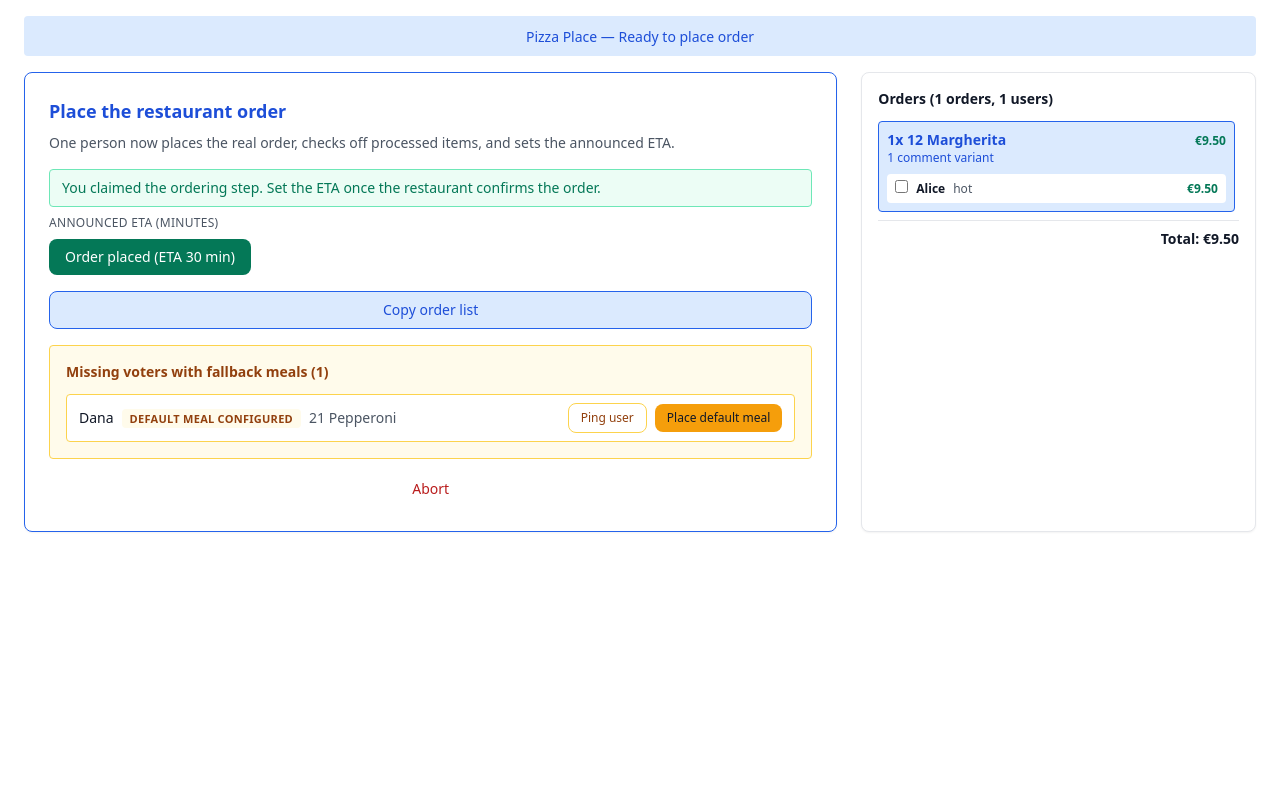
Test case: FoodSelectionOrderingView › shows validation error for invalid custom ETA and does not submit
Step 1. Click the button with aria-label "place order eta menu" → (150, 257), box x1=49 y1=239 x2=251 y2=275
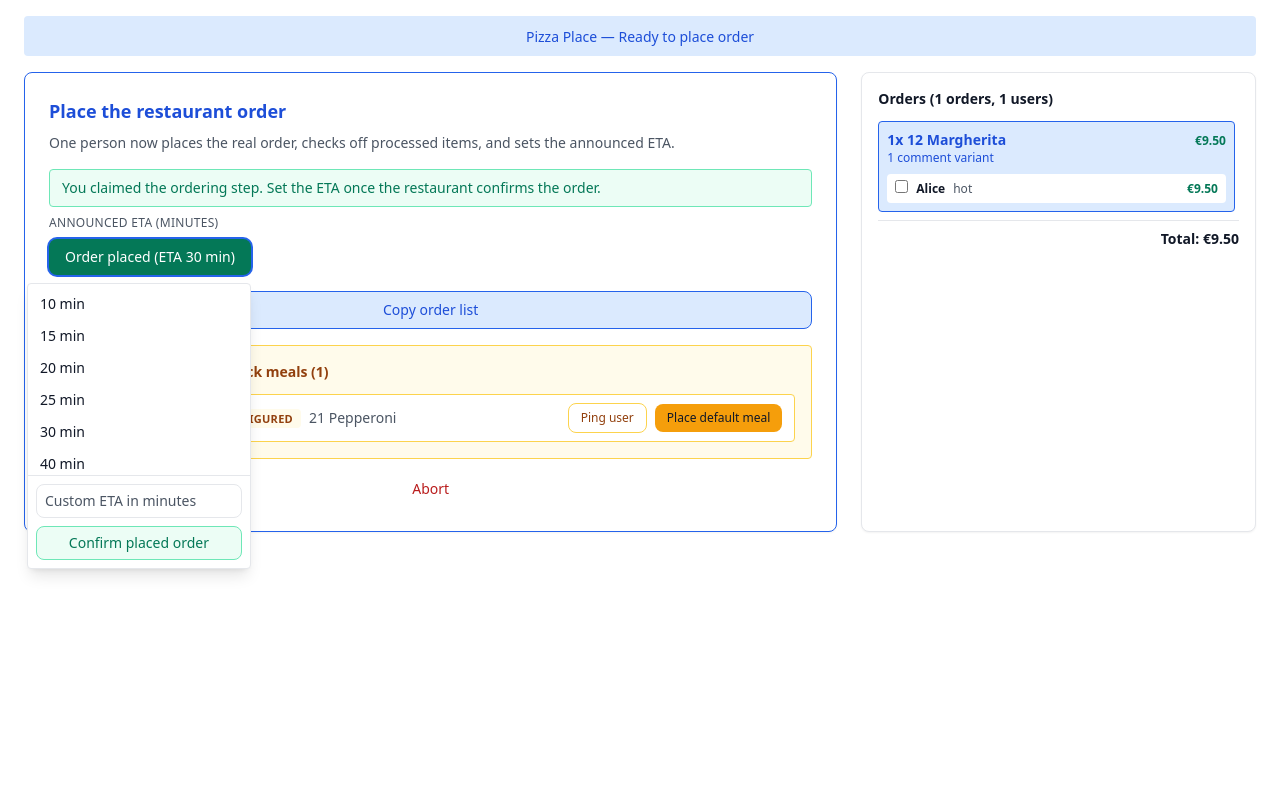
Step 2. Type "0" into the field labelled "Custom ETA in minutes" → (139, 501), box x1=36 y1=484 x2=242 y2=518
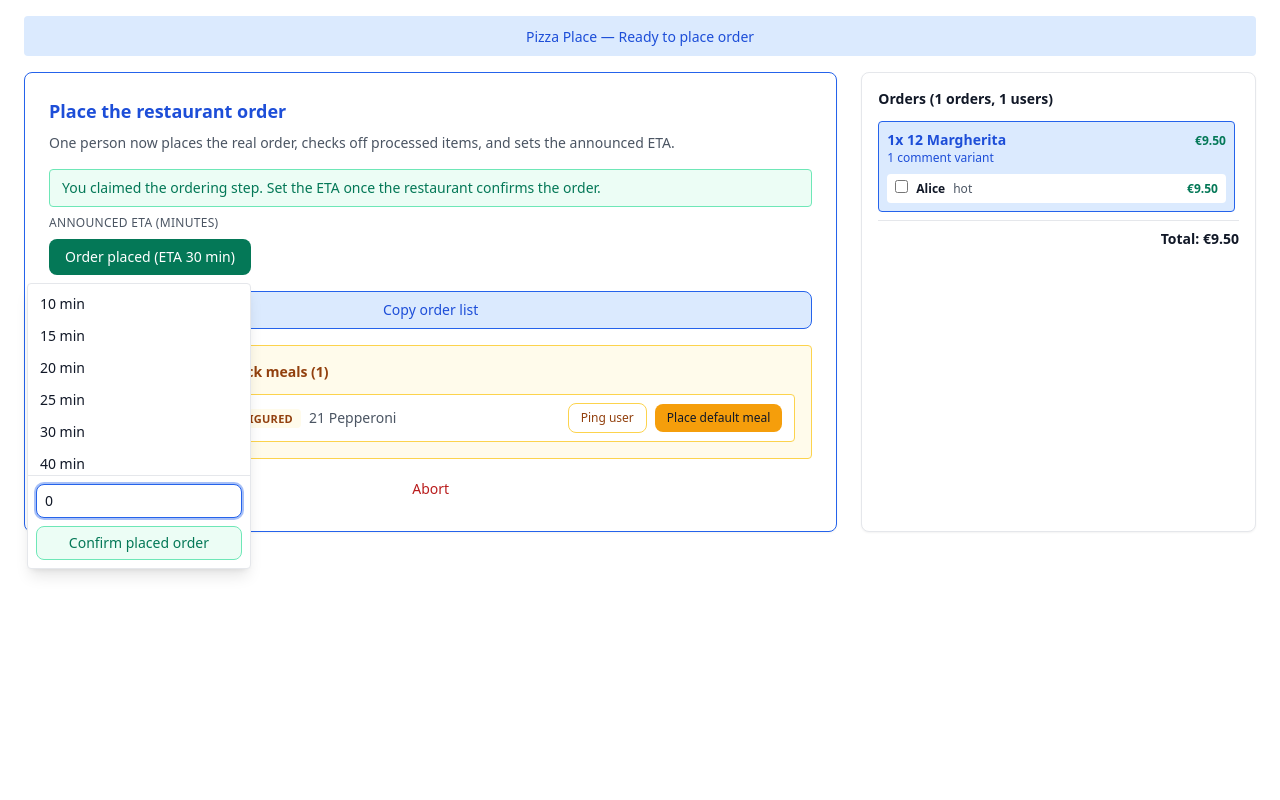
Step 3. Click the button "Confirm placed order" → (139, 543), box x1=36 y1=526 x2=242 y2=560
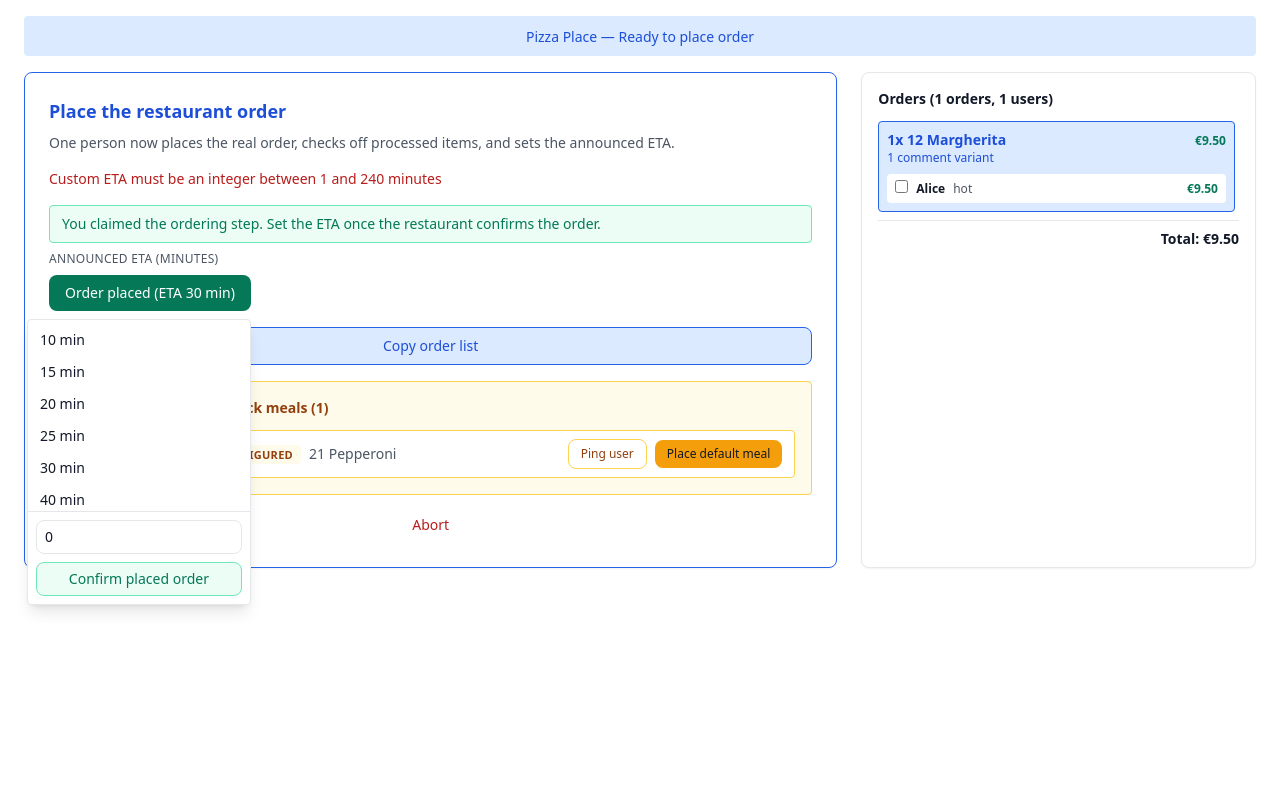
Now the text "Custom ETA must be an integer between 1 and 240 minutes" is shown, box x1=49 y1=169 x2=442 y2=188
